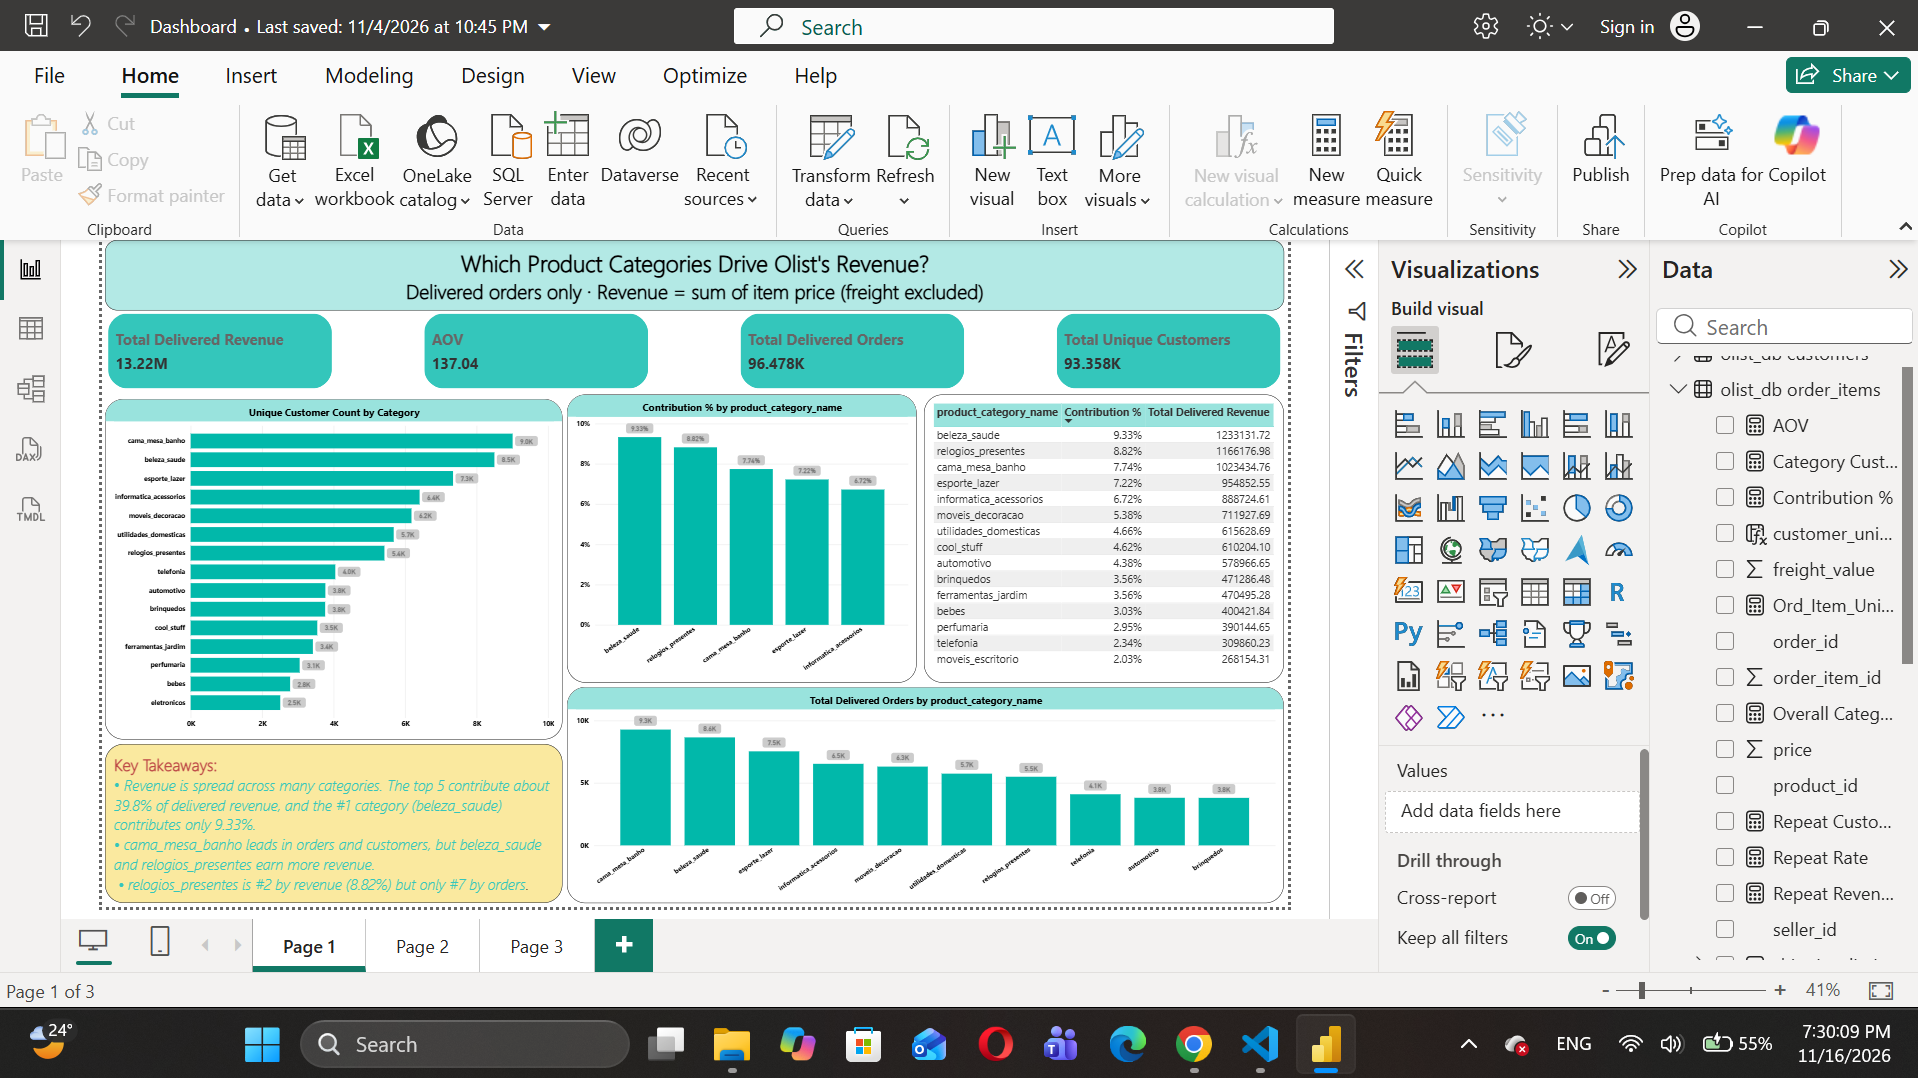

The dashboard page shown, as its layout file describes it:
{"tool":"powerbi","page":{"name":"Page 1","canvas":[1920,1080],"ordinal":0},"visuals":[{"type":"cardVisual","fields":{"Data":["olist_db order_items.Total Delivered Revenue","olist_db order_items.AOV","olist_db order_items.Total Delivered Orders","olist_db order_items.Total Unique Customers"]},"box":[4.9,114.2,1909.1,131.2],"z":0},{"type":"columnChart","fields":{"Category":["olist_db products.product_category_name"],"Y":["olist_db order_items.Contribution %"]},"box":[752.9,250.2,565.9,466.3],"z":1000},{"type":"columnChart","fields":{"Category":["olist_db products.product_category_name"],"Y":["olist_db order_items.Total Delivered Orders"]},"box":[752.9,723.8,1161,349.8],"z":2000},{"type":"barChart","title":"Unique Customer Count by Category","fields":{"Category":["olist_db products.product_category_name"],"Y":["olist_db order_items.Ord_Item_Unique_Customer_Count"]},"box":[4.9,257.5,740.8,551.3],"z":3000},{"type":"tableEx","fields":{"Values":["olist_db products.product_category_name","olist_db order_items.Contribution %","olist_db order_items.Total Delivered Revenue"]},"box":[1331,250.2,582.9,466.3],"z":4000},{"type":"textbox","box":[4.9,816.1,740.8,257.5],"z":5000},{"type":"textbox","box":[4.9,0,1909.1,114.2],"z":6000}]}

Visuals, with their boxes on the page's 1920x1080 design canvas (x1, y1, x2, y2). These are canvas units, not pixel positions in the 1918x1078 screenshot, which may show the page scaled, cropped or inside an application window:
cardVisual - olist_db order_items.Total Delivered Revenue x olist_db order_items.AOV: [5, 114, 1914, 245]
columnChart - olist_db products.product_category_name x olist_db order_items.Contribution %: [753, 250, 1319, 716]
columnChart - olist_db products.product_category_name x olist_db order_items.Total Delivered Orders: [753, 724, 1914, 1074]
"Unique Customer Count by Category" barChart: [5, 258, 746, 809]
tableEx - olist_db products.product_category_name x olist_db order_items.Contribution %: [1331, 250, 1914, 716]
textbox: [5, 816, 746, 1074]
textbox: [5, 0, 1914, 114]
